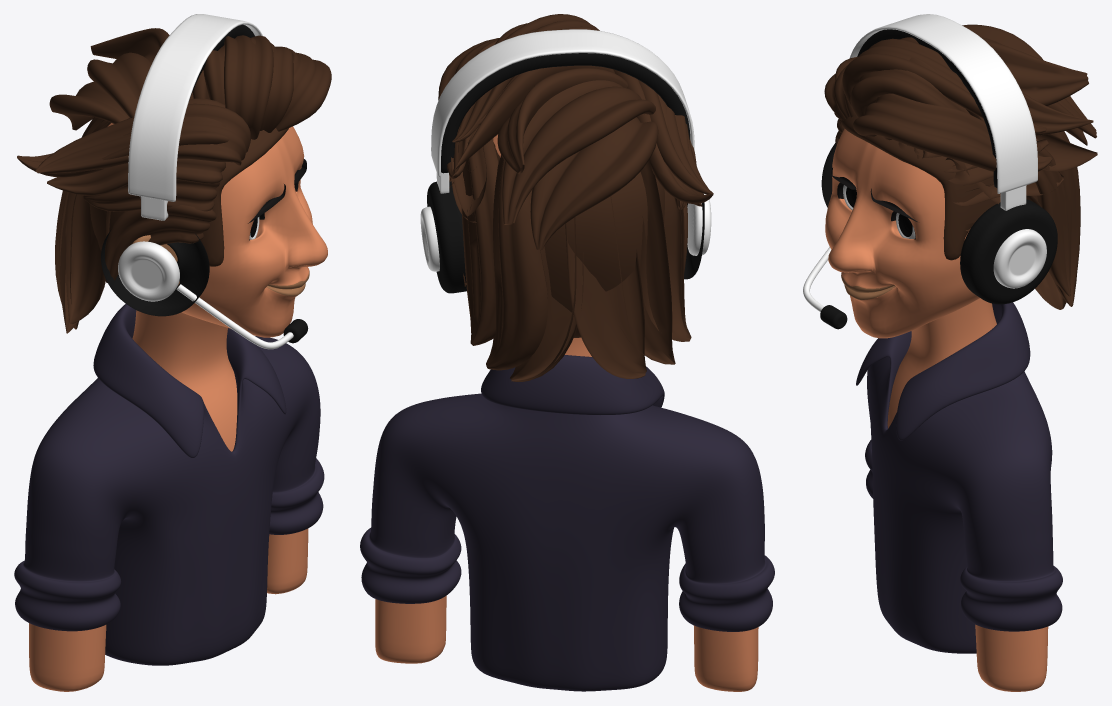
Rendered from male-guest-3d-animated-icon-720086318858.glb.
The picture shows the model from 3 angles, left to right: view 1: azimuth 30°, elevation 25°; view 2: azimuth 150°, elevation 25°; view 3: azimuth 270°, elevation 25°; orthographic projection. The views are drawn at different scales.
Visible parts, largest first — view 1: Shirt, Hair, Headphone, Head 2.004, Body, Mic; view 2: Shirt, Hair, Headphone, Body; view 3: Shirt, Hair, Head 2.004, Headphone, Body, Mic, Eyes.
Part boxes in pixels (x1,y1,x2,y2): Shirt: (14,304,324,665); Hair: (17,28,331,333); Headphone: (101,14,262,316); Head 2.004: (107,123,327,337); Body: (29,310,308,691); Mic: (176,284,308,349); Shirt: (360,355,774,691); Hair: (438,14,713,381); Headphone: (420,29,711,293); Body: (375,337,758,691); Shirt: (856,302,1062,653); Hair: (824,24,1097,309); Head 2.004: (825,128,979,338); Headphone: (821,14,1057,304); Body: (887,298,1048,691); Mic: (803,247,847,329); Eyes: (843,185,915,238).
Size of the model in its own units: 3.42 by 5.75 by 2.57.
